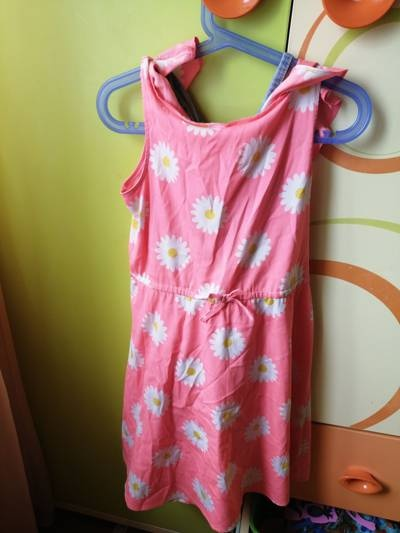Dress: (93, 21, 370, 521)
